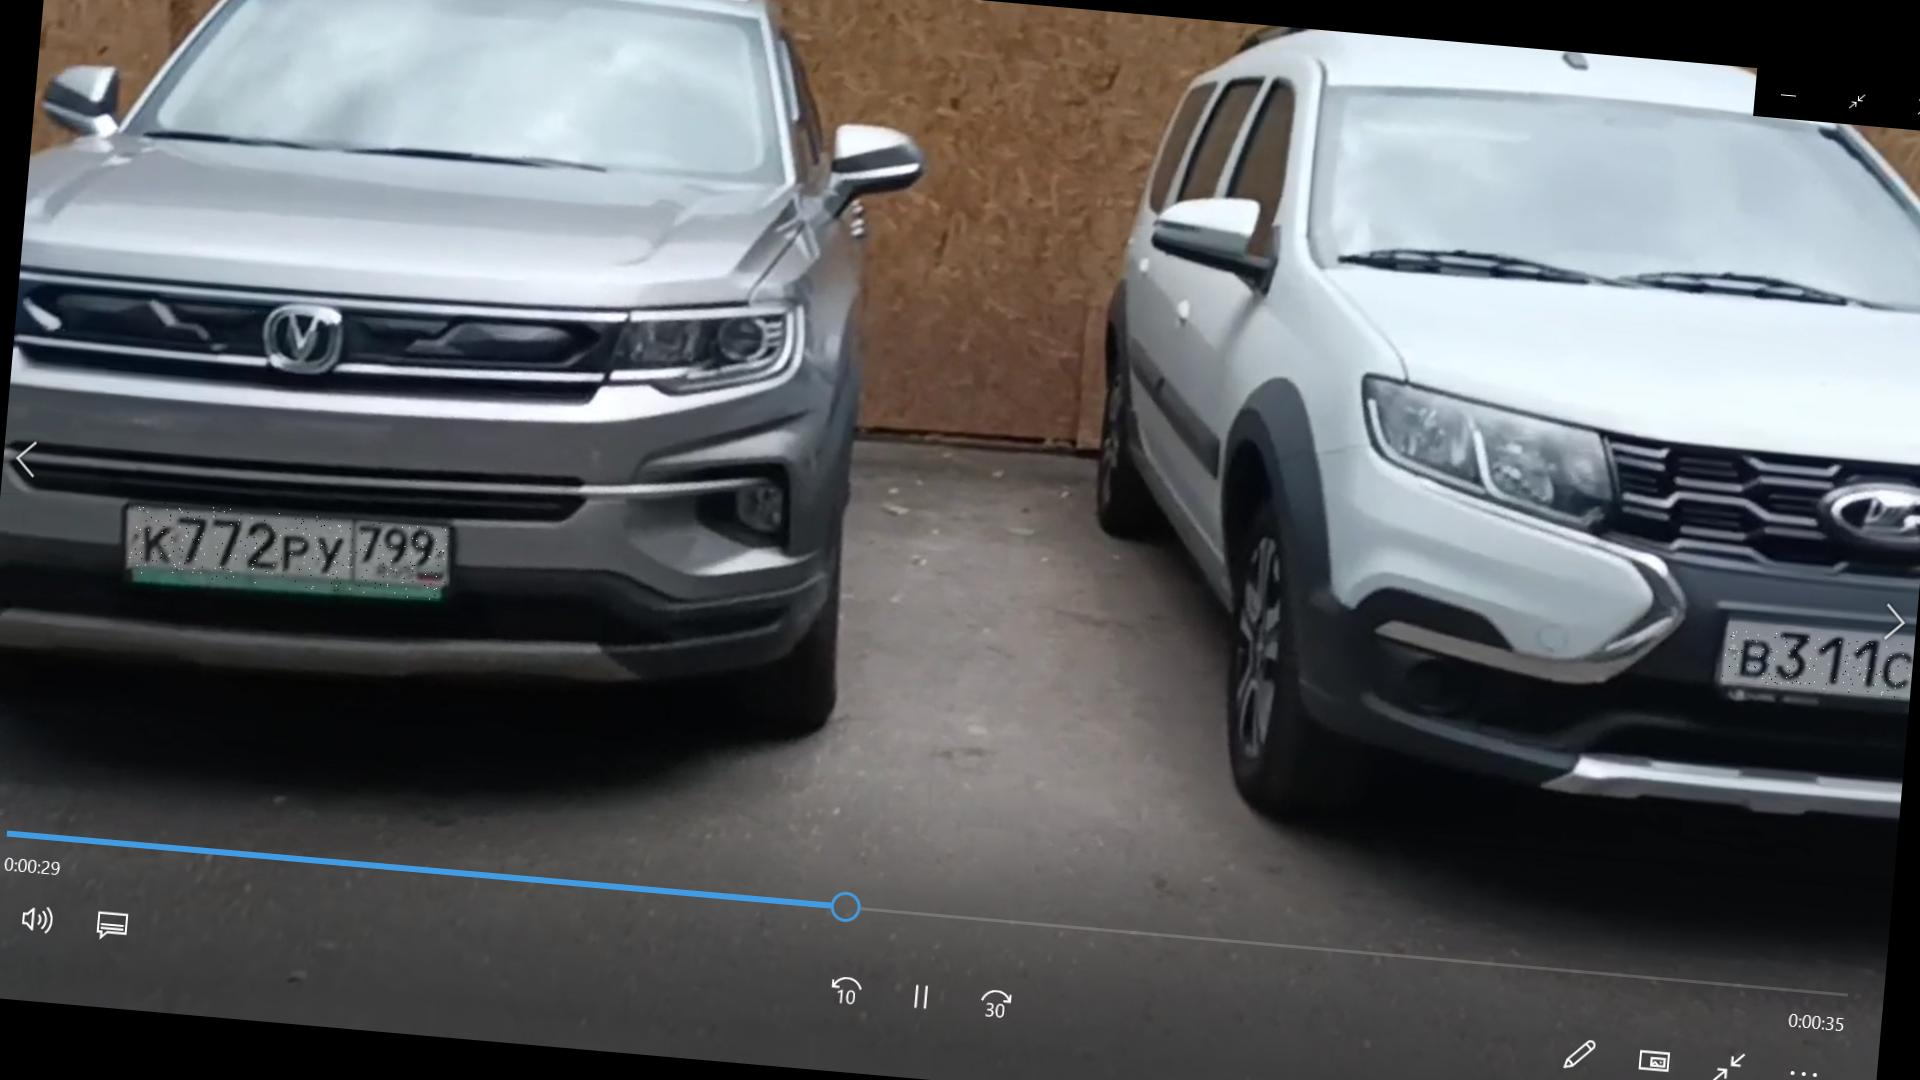plate: (130, 502, 454, 602), (1723, 630, 1914, 700)
